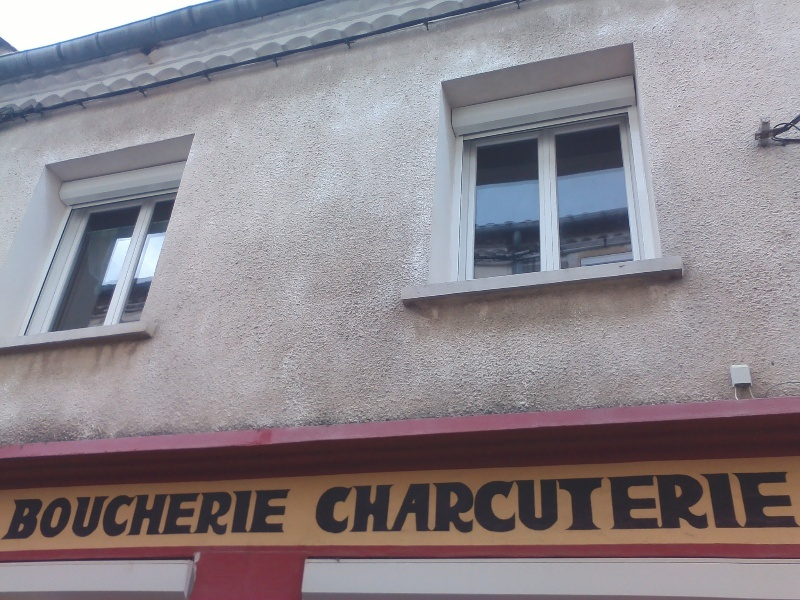text: (321, 468, 336, 534), (337, 468, 352, 534), (353, 468, 368, 534), (369, 468, 384, 534), (385, 468, 400, 534), (401, 468, 416, 534), (417, 468, 432, 534), (433, 468, 448, 534), (449, 468, 464, 534), (465, 468, 480, 534), (481, 468, 496, 534), (497, 468, 512, 534), (513, 468, 528, 534), (529, 468, 544, 534), (545, 468, 560, 534), (561, 468, 576, 534), (577, 468, 592, 534), (593, 468, 608, 534), (609, 468, 624, 534), (625, 468, 640, 534), (641, 468, 656, 534), (657, 468, 672, 534), (673, 468, 688, 534), (689, 468, 704, 534), (705, 468, 720, 534), (721, 468, 736, 534), (737, 468, 752, 534), (753, 468, 768, 534), (769, 468, 784, 534), (785, 468, 800, 534), (17, 488, 32, 541), (33, 488, 48, 541), (49, 488, 64, 541), (65, 488, 80, 541), (81, 488, 96, 541), (97, 488, 112, 541), (113, 488, 128, 541), (129, 488, 144, 541), (145, 488, 160, 541), (161, 488, 176, 541), (177, 488, 192, 541), (193, 488, 208, 541), (209, 488, 224, 541), (225, 488, 240, 541), (241, 488, 256, 541), (257, 488, 272, 541), (273, 488, 288, 541), (10, 488, 16, 541), (289, 488, 292, 541), (319, 468, 320, 534)
